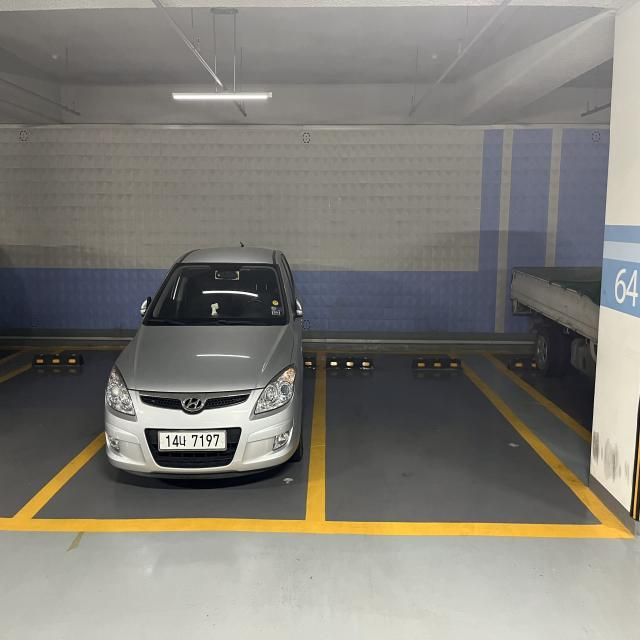empty: (315, 349, 564, 542)
occupied: (93, 231, 317, 491)
